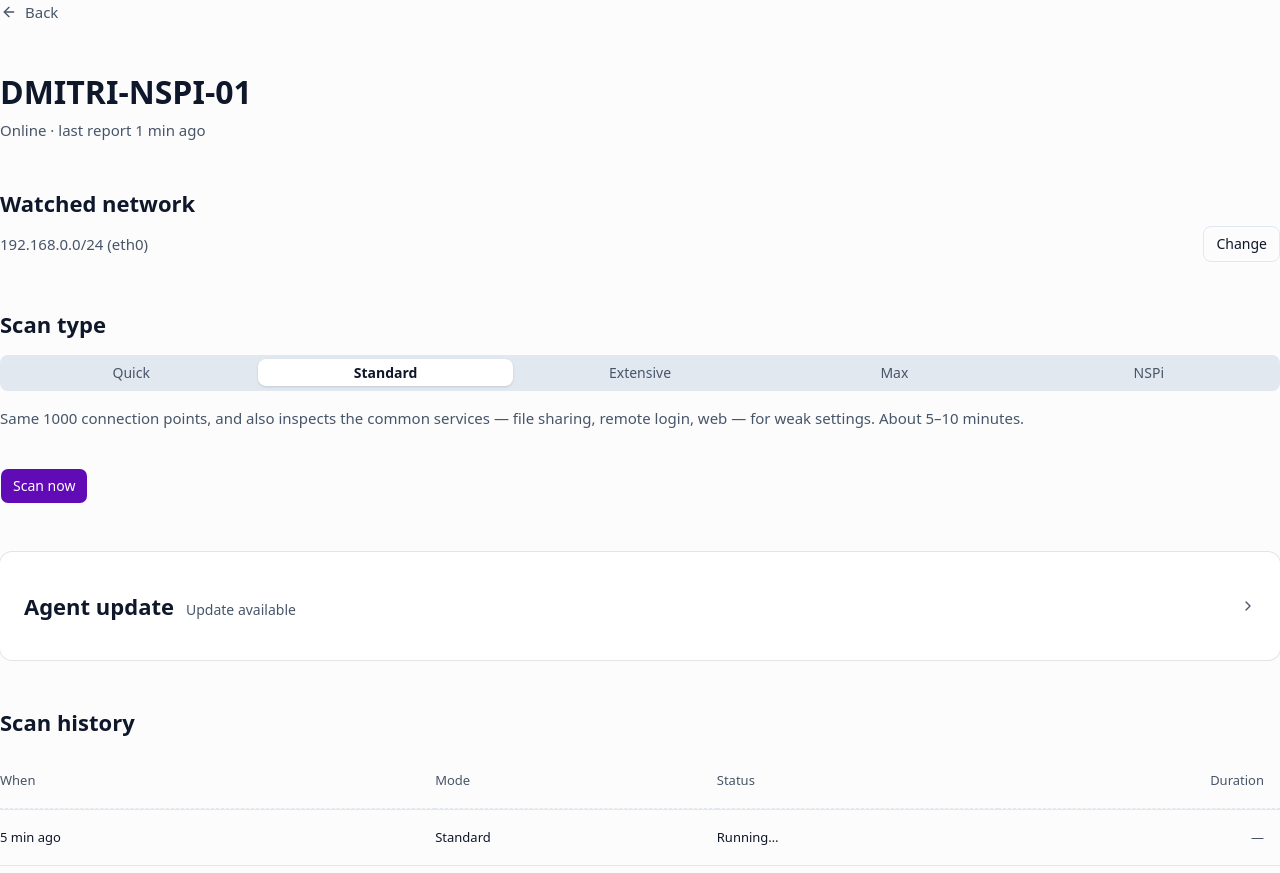
Device update section › keeps a successful request visible when its history refetch fails
The image size is (1280, 873).
Click the button with test id "agent-update-toggle": (99, 606) [0,576,1279,636]
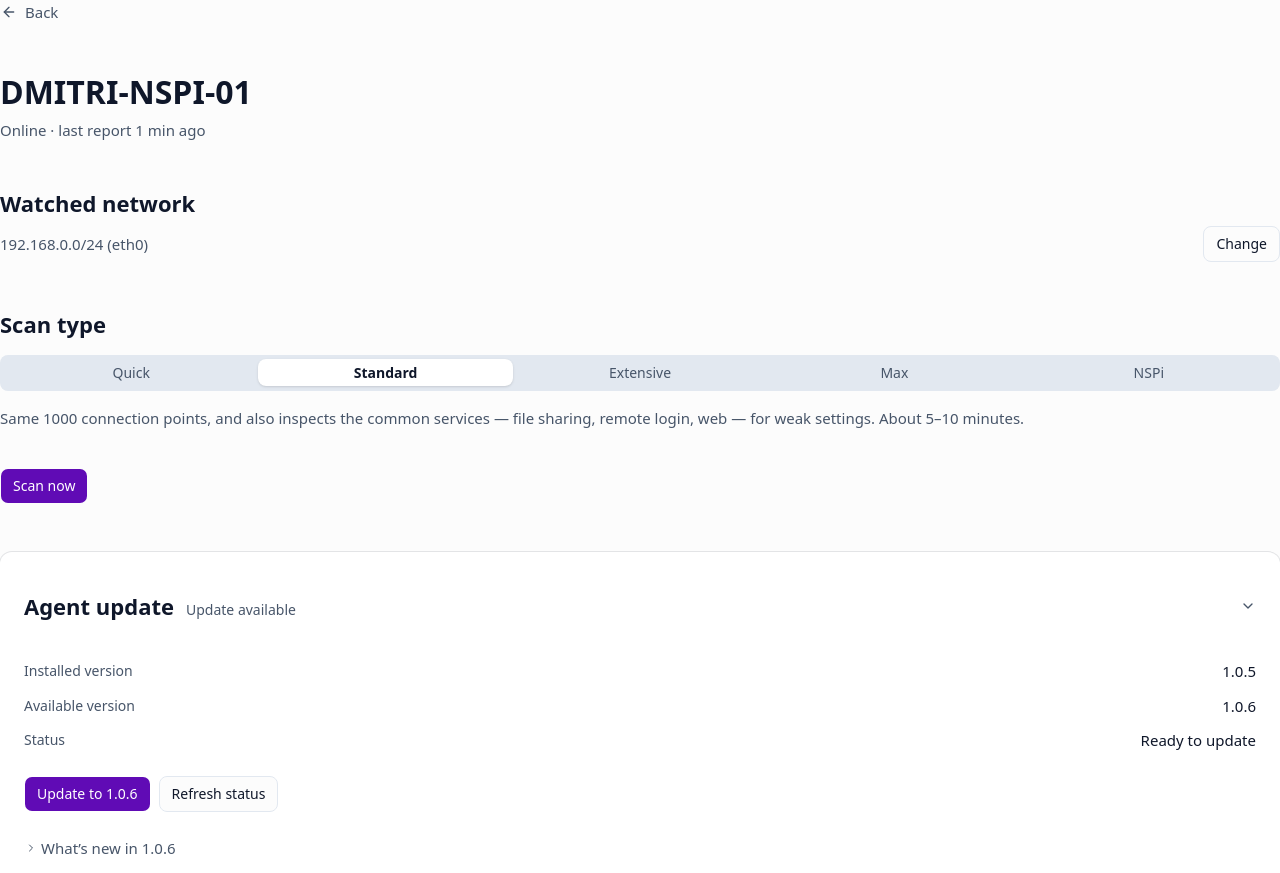
Click the button with test id "agent-update-trigger": (87, 794) [24,776,151,812]
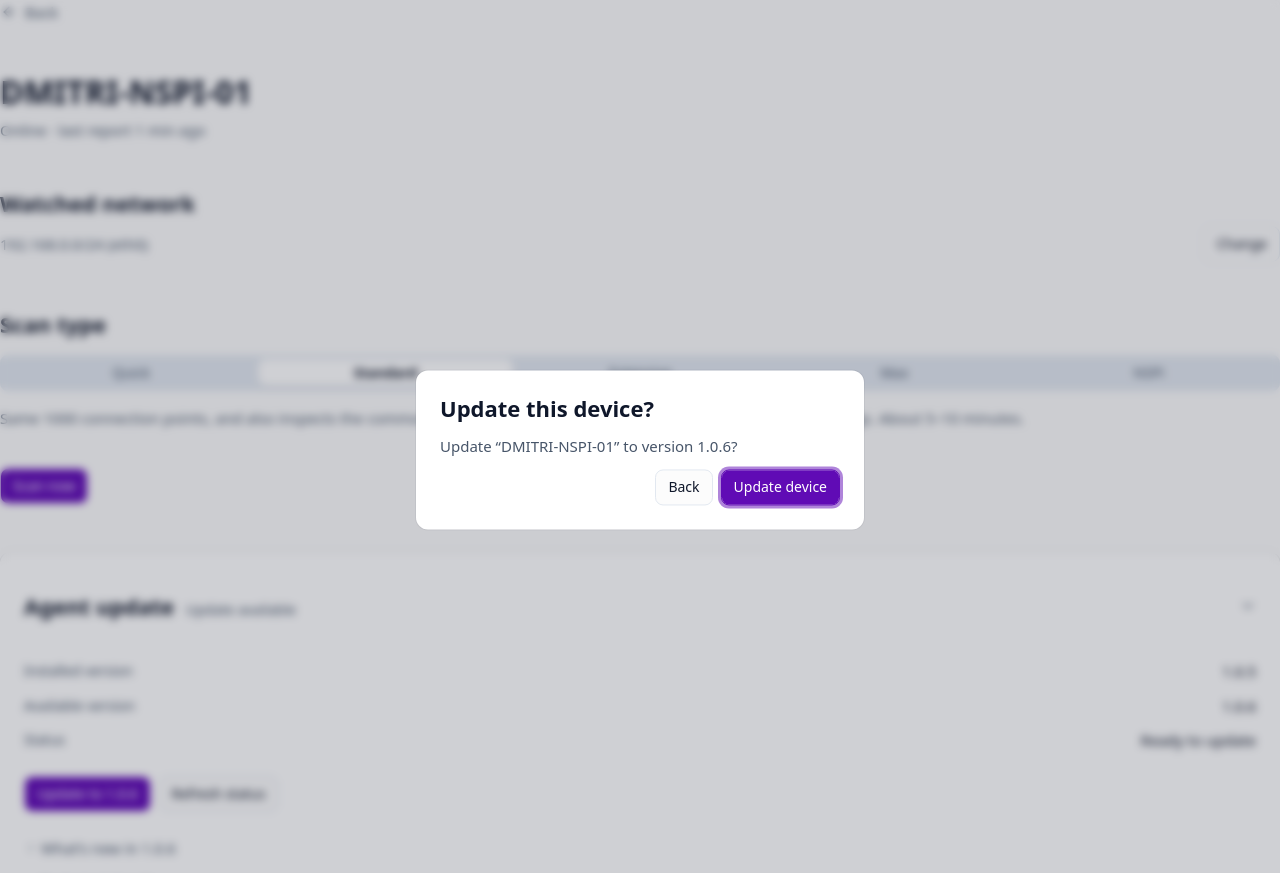
Click the button with aria-label "Confirm update to version 1.0.6": (780, 488) [720,470,840,506]
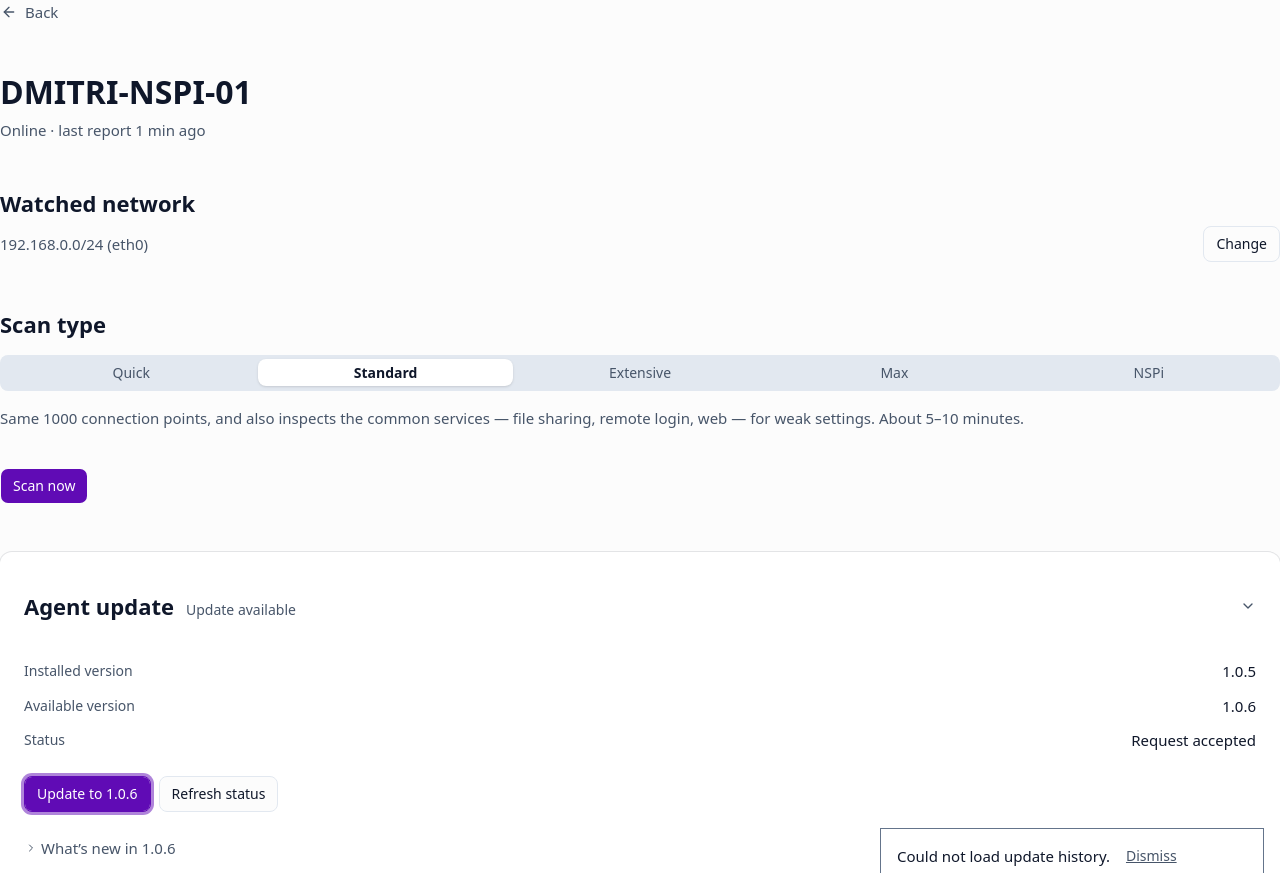
Check: the list item with test id "toast" shows "Could not load update history.", box [897,846,1110,866]
